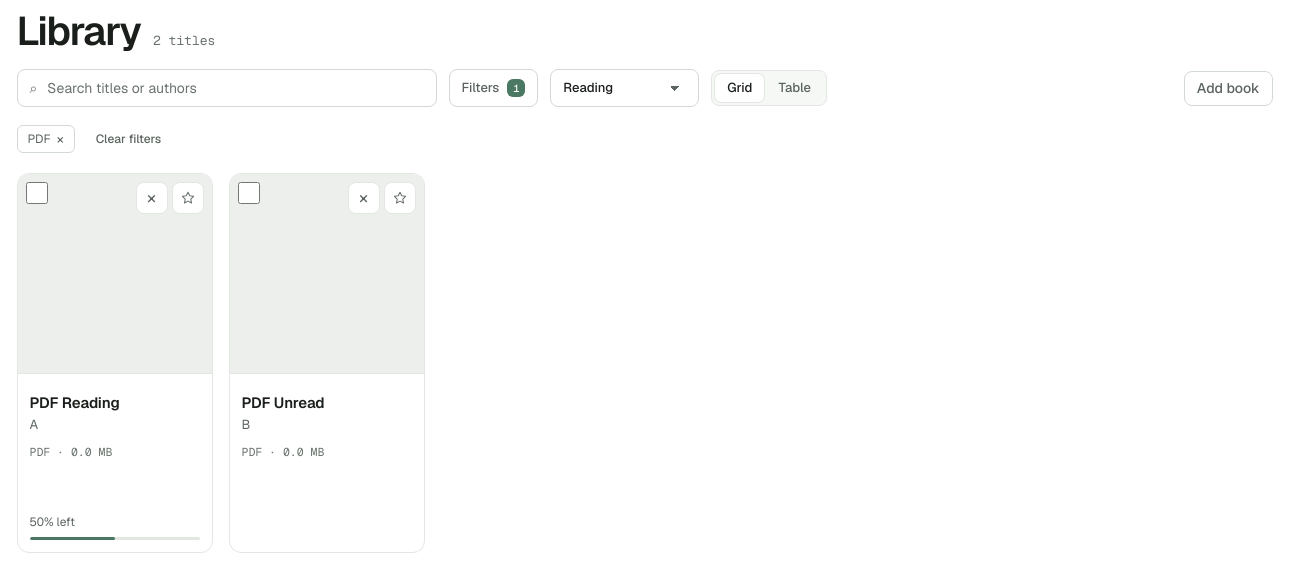
Library › returns to the top when the filters are cleared
The image size is (1290, 570).
(page scrolled)
expect the text "2 titles" is shown: met, box [153,34,215,48]
Click the button with aria-label "Remove filter: PDF".
click(46, 139)  # box [16,125,75,153]
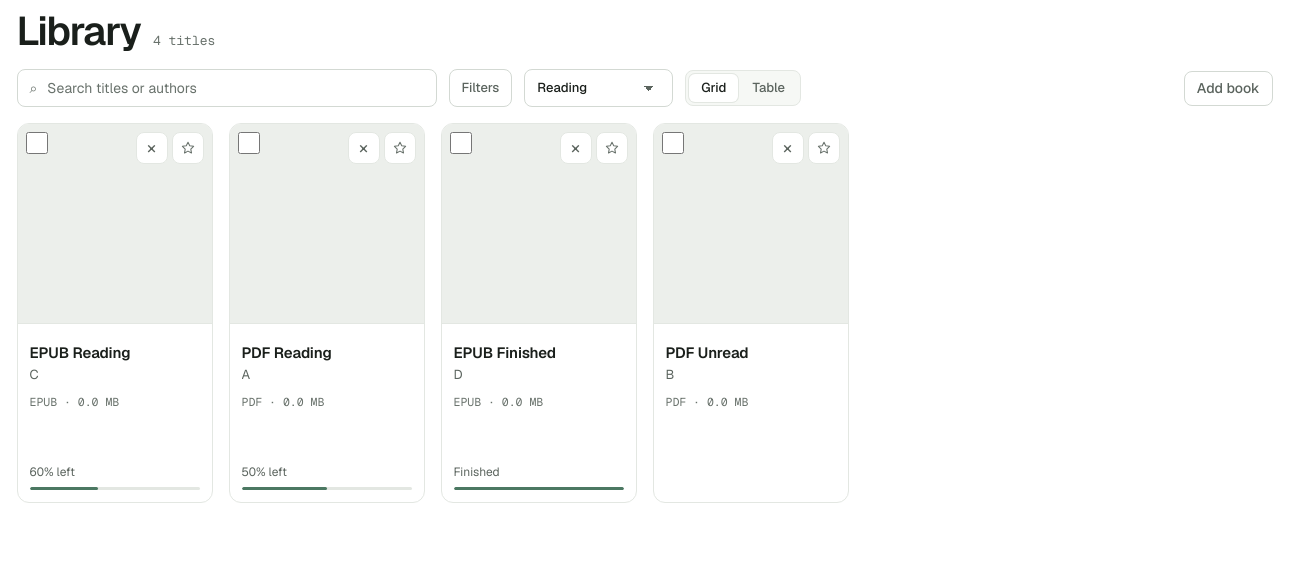
expect the text "4 titles" is shown: met, box [153,34,215,48]
